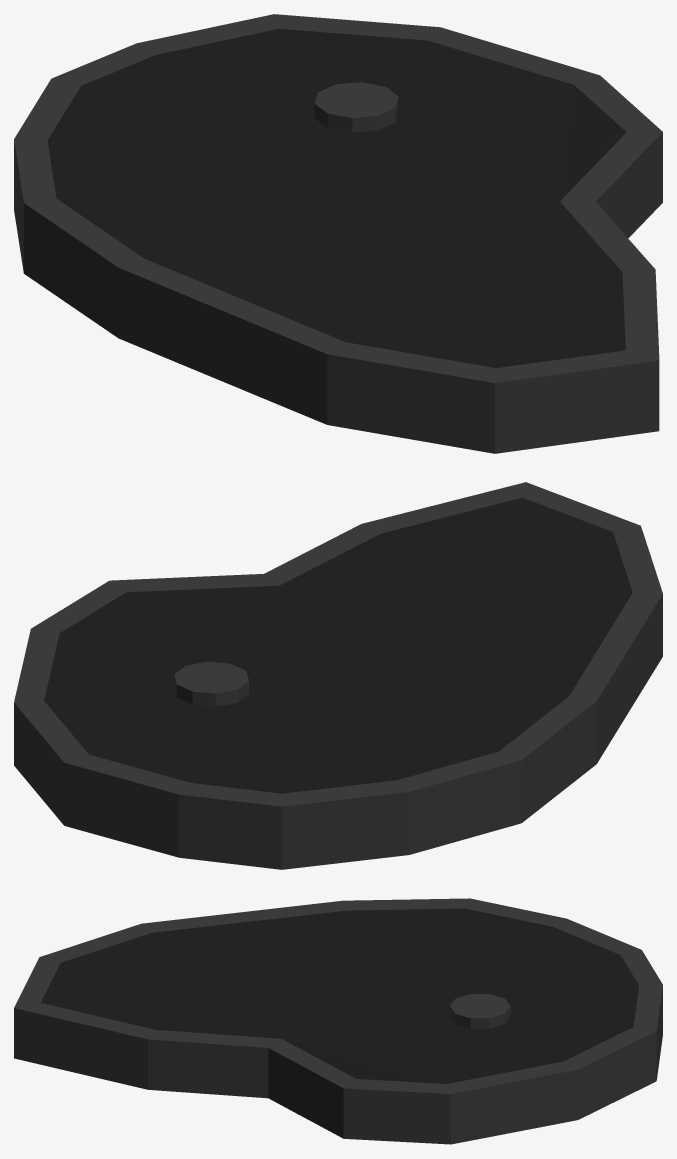
Rendered from Cooked Steak_4.fbx.
The picture shows the model from 3 angles, top to bottom: view 1: azimuth 30°, elevation 25°; view 2: azimuth 150°, elevation 25°; view 3: azimuth 270°, elevation 25°; orthographic projection. The views are drawn at different scales.
Parts seen in each view (by area): view 1: Cooked Steak_4; view 2: Cooked Steak_4; view 3: Cooked Steak_4.
Part boxes in pixels (box(x1,y1,x2,y2)): Cooked Steak_4: box(14, 14, 662, 453); Cooked Steak_4: box(14, 482, 662, 869); Cooked Steak_4: box(14, 898, 662, 1144).
Size of the model in its own units: 36.74 by 6.33 by 51.5.
